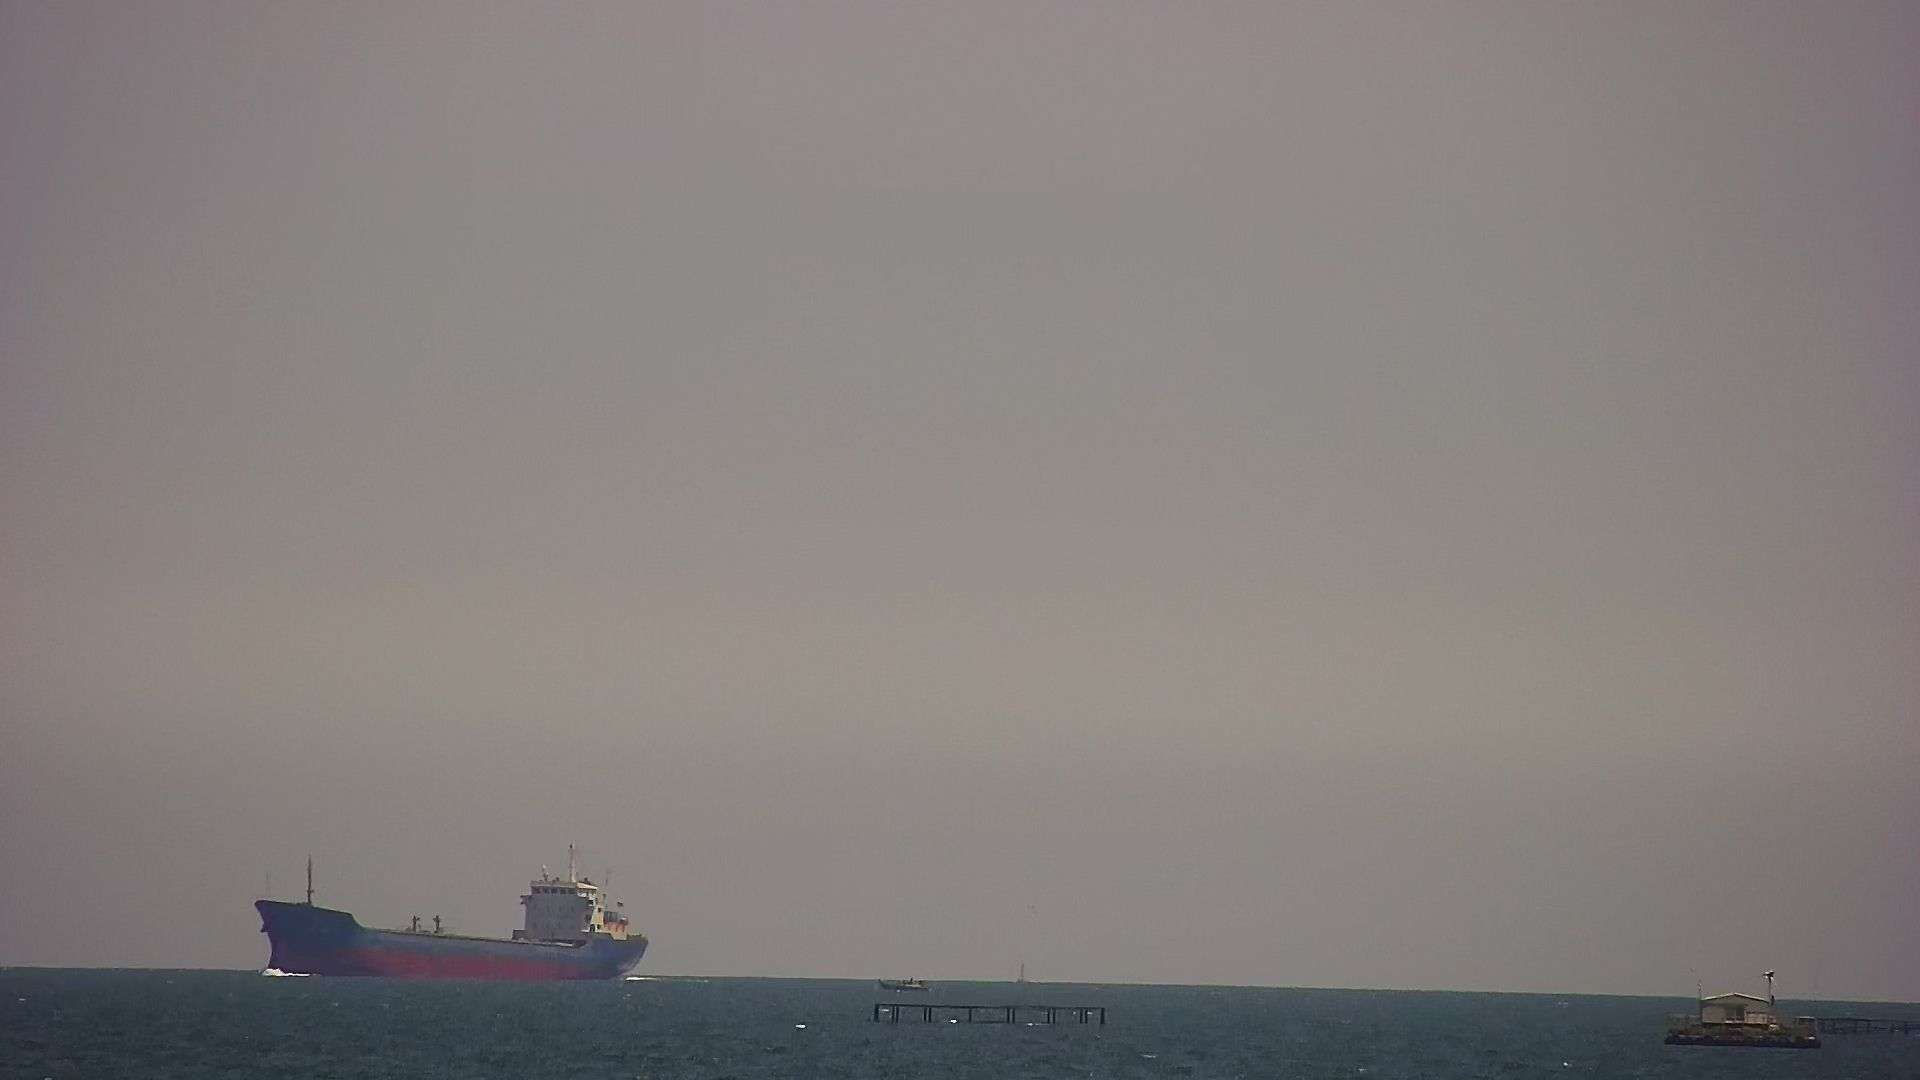platform: (1668, 971, 1832, 1052), (872, 1000, 1116, 1033)
ship: (243, 835, 655, 986)
